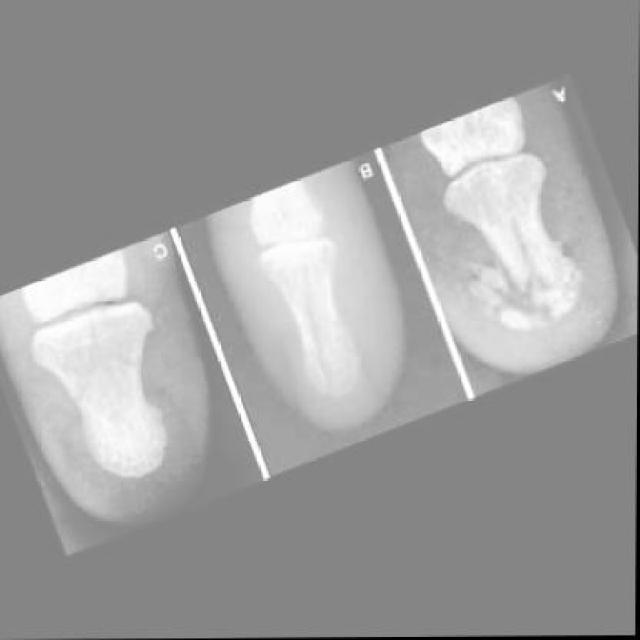Fracture: (451, 217, 608, 367), (40, 305, 158, 421), (294, 325, 378, 413)
